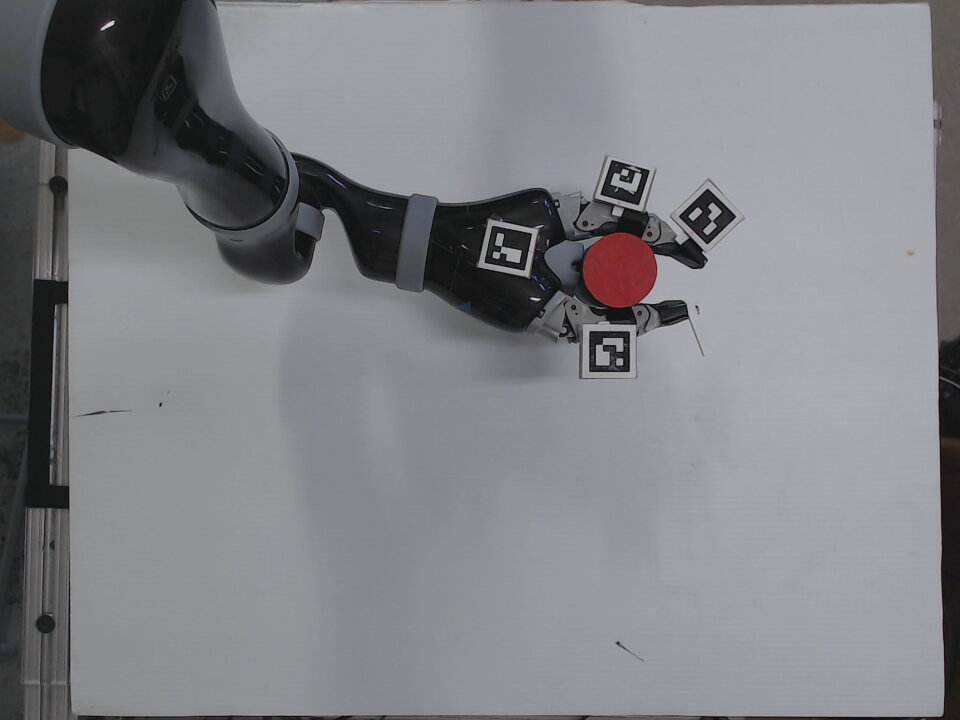cylinder: (576, 230, 663, 314)
